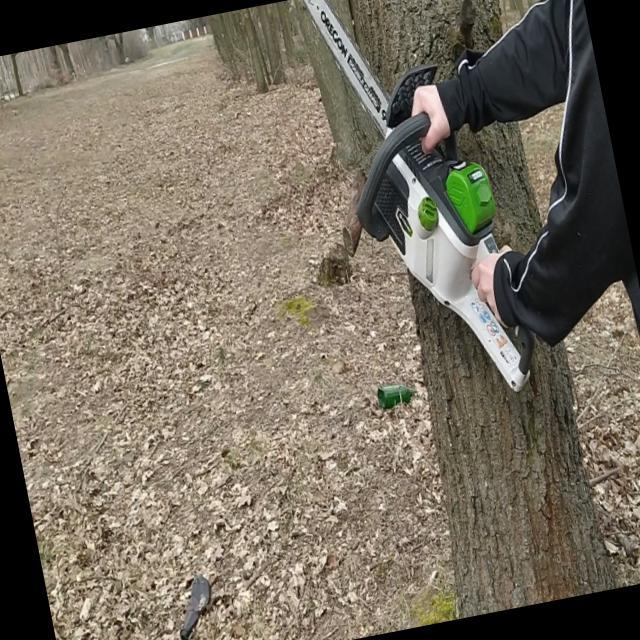Chainsaw: (294, 0, 549, 427)
